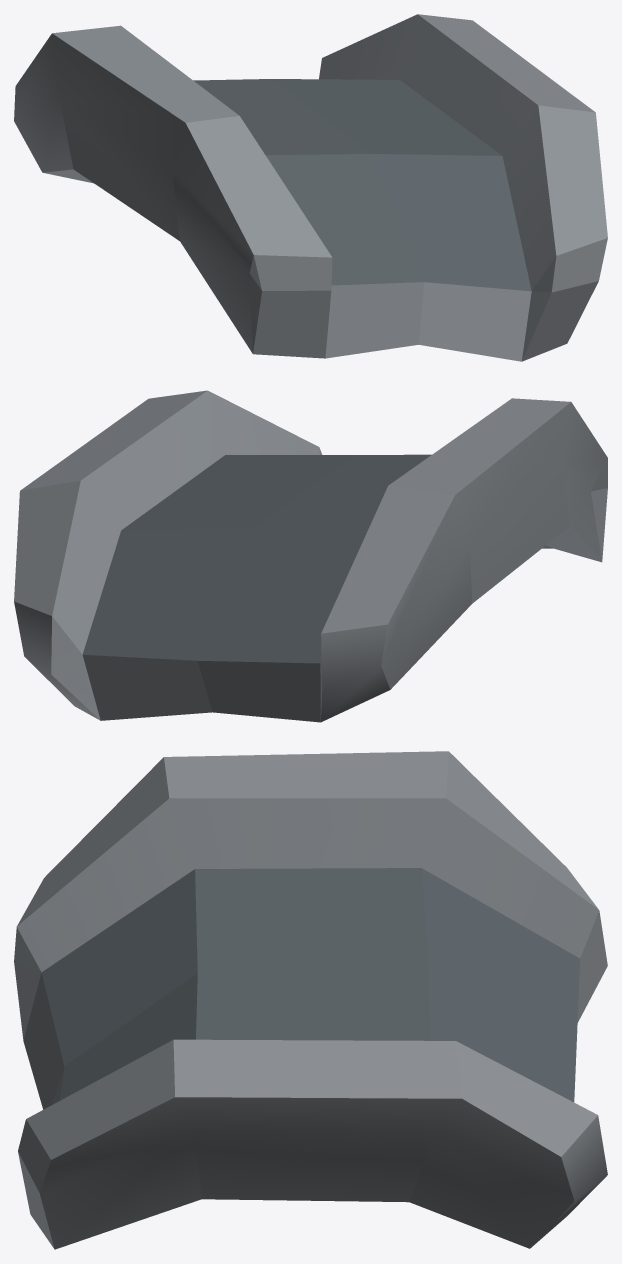
File: Chr_ShoulderAttachLeft_04_Static.fbx
3 renders of one model, top to bottom at view 1: azimuth 30°, elevation 25°; view 2: azimuth 150°, elevation 25°; view 3: azimuth 270°, elevation 25°, orthographic. The views are drawn at different scales.
Visible parts, largest first — view 1: Chr_ShoulderAttachLeft_04_Static; view 2: Chr_ShoulderAttachLeft_04_Static; view 3: Chr_ShoulderAttachLeft_04_Static.
Part boxes in pixels (x1,y1,x2,y2): Chr_ShoulderAttachLeft_04_Static: (14, 14, 607, 361); Chr_ShoulderAttachLeft_04_Static: (14, 390, 607, 722); Chr_ShoulderAttachLeft_04_Static: (14, 751, 607, 1249).
Bounding box in the file's own units: 0.2144 × 0.1277 × 0.224.
